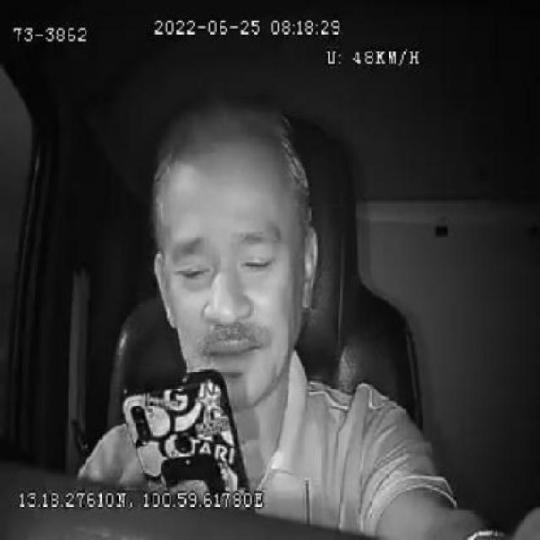phone: (120, 367, 250, 490)
